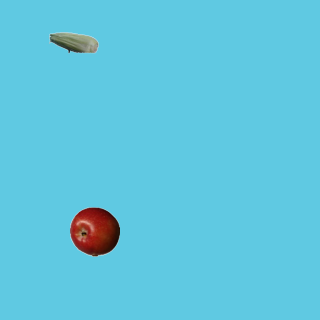Apple Braeburn: (69, 206, 119, 256)
Corn Husk: (48, 17, 98, 67)
